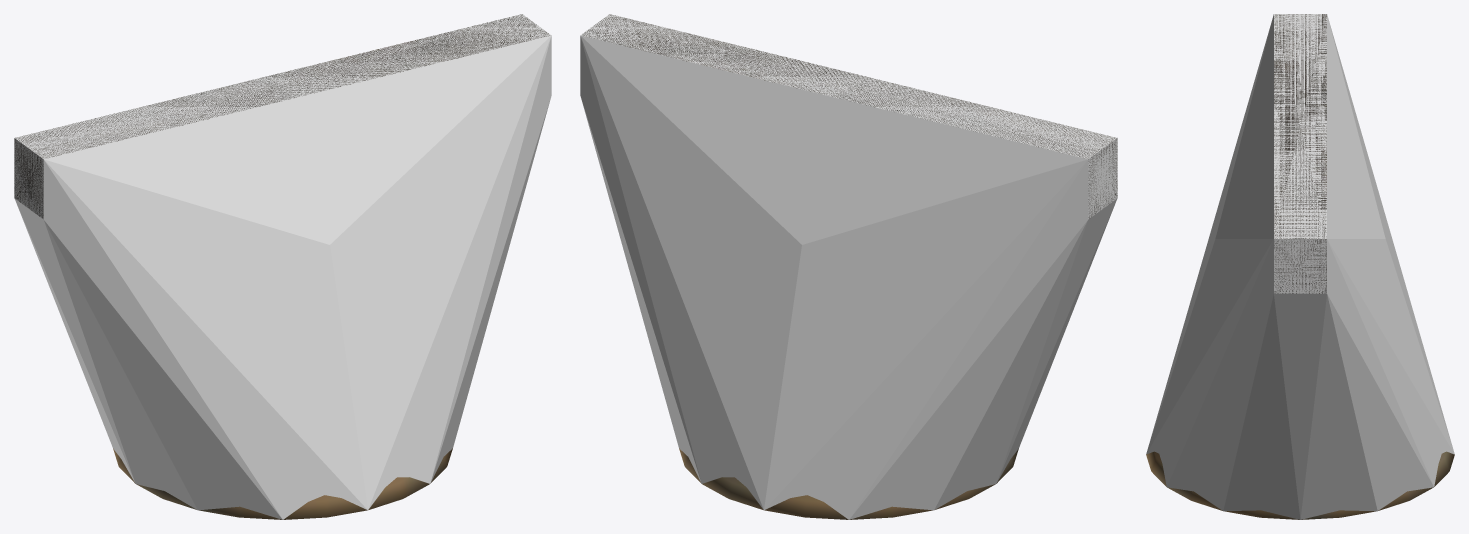
File: bell.webp.glb
3 views of the same model, side by side, from view 1: azimuth 30°, elevation 25°; view 2: azimuth 150°, elevation 25°; view 3: azimuth 270°, elevation 25° (orthographic). The views are drawn at different scales.
Parts seen in each view (by area): view 1: COL, LOD0_body; view 2: COL, LOD0_body; view 3: COL, LOD0_body.
Part boxes in pixels (bbox=[...]): COL: bbox=[14, 14, 551, 519]; LOD0_body: bbox=[14, 14, 549, 519]; COL: bbox=[580, 14, 1117, 519]; LOD0_body: bbox=[582, 14, 1117, 519]; COL: bbox=[1146, 14, 1454, 519]; LOD0_body: bbox=[1146, 14, 1454, 519].
Size of the model in its own units: 1.5 by 1.02 by 0.8701.
1 material, 1 textured.
